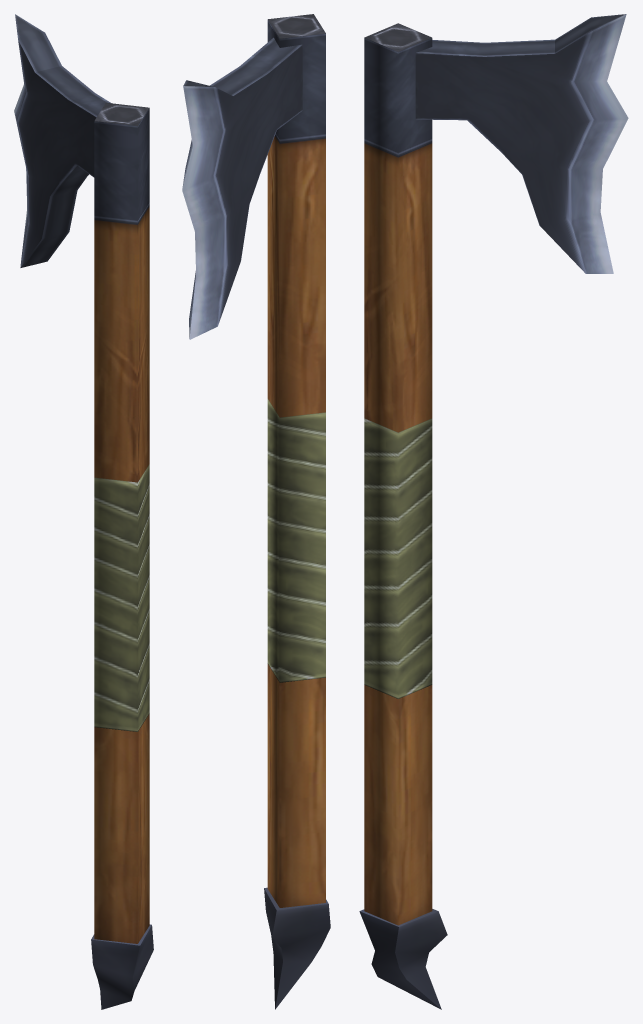
Rendered from Battle axe2.FBX.
3 renders of one model, left to right at view 1: azimuth 30°, elevation 25°; view 2: azimuth 150°, elevation 25°; view 3: azimuth 270°, elevation 25°, orthographic. The views are drawn at different scales.
Visible parts, largest first — view 1: Battle axe2; view 2: Battle axe2; view 3: Battle axe2.
Boxes of the visible parts, x1,y1,x2,y2 form: Battle axe2: (14,14,153,1009); Battle axe2: (182,14,330,1009); Battle axe2: (359,14,628,1009).
Bounding box in the file's own units: 0.0785 × 1.15 × 0.2811.
